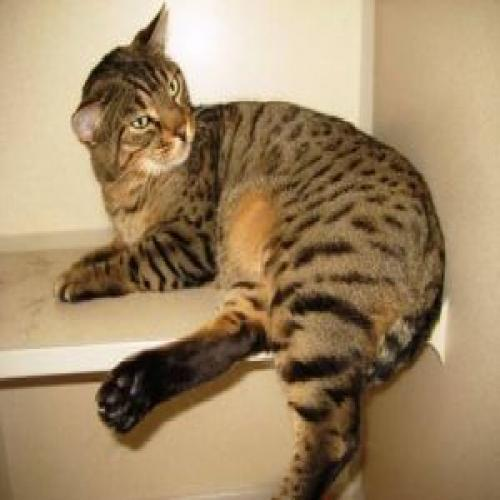cat-face: (71, 10, 206, 176)
